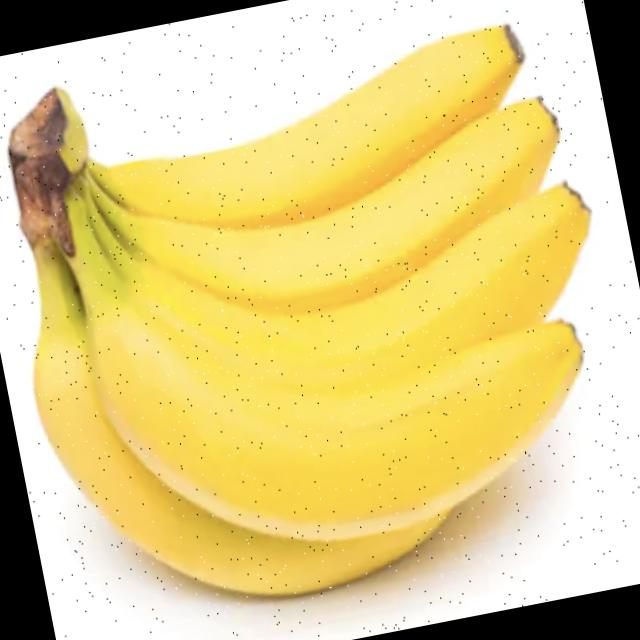banana: (107, 26, 563, 598)
